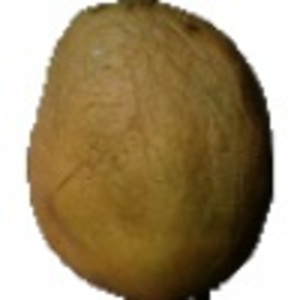mamão: (19, 2, 276, 296)
